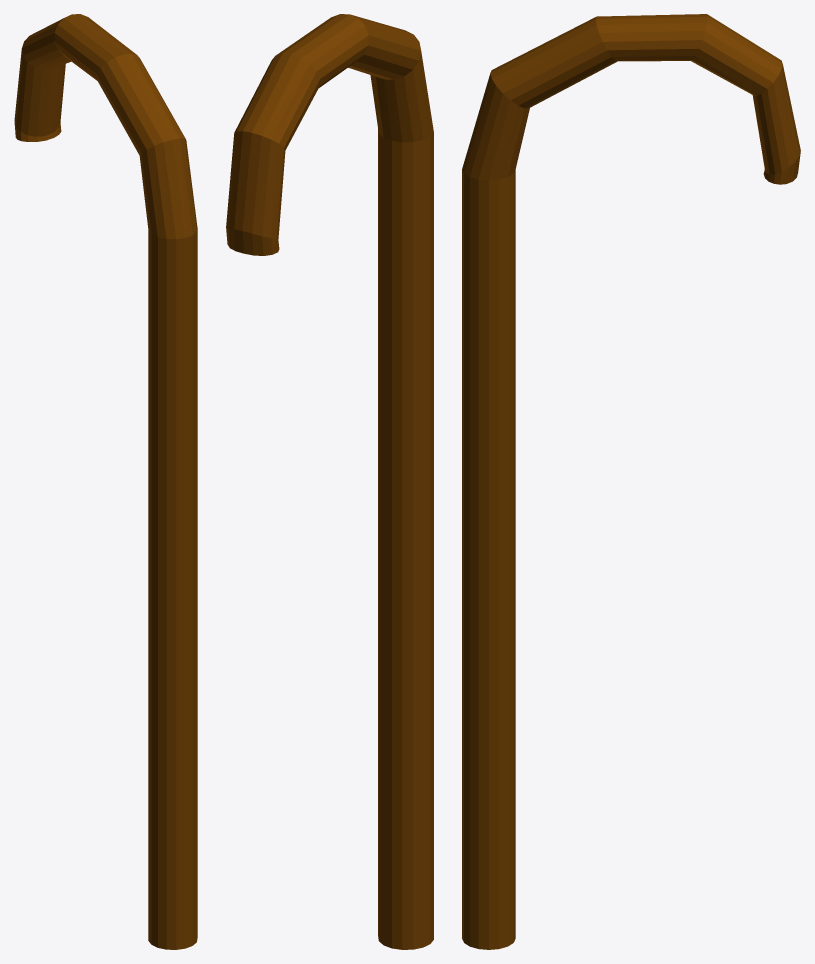
The model's file is temp_cane.fbx.
The picture shows the model from 3 angles, left to right: view 1: azimuth 30°, elevation 25°; view 2: azimuth 150°, elevation 25°; view 3: azimuth 270°, elevation 25°; orthographic projection. The views are drawn at different scales.
Visible parts, largest first — view 1: pCylinder1; view 2: pCylinder1; view 3: pCylinder1.
Part boxes in pixels (left/top/right/bottom): pCylinder1: left=14, top=14, right=197, bottom=949; pCylinder1: left=226, top=14, right=433, bottom=949; pCylinder1: left=462, top=14, right=800, bottom=949.
Size of the model in its own units: 2.01 by 37.94 by 12.64.
